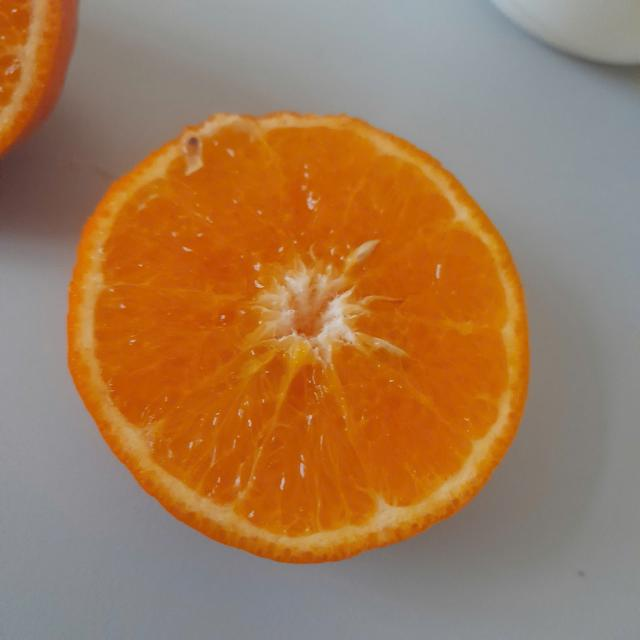Cam: (46, 80, 544, 596)
